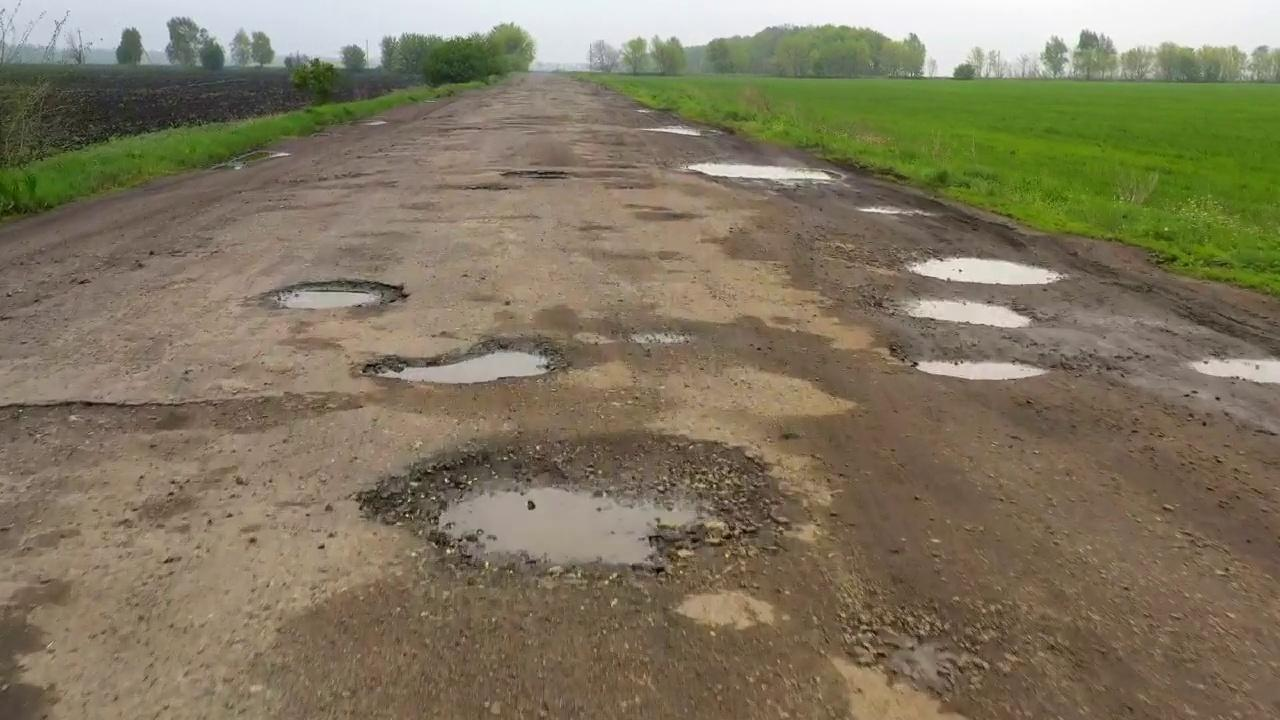bache: (357, 431, 781, 576), (0, 392, 358, 431), (361, 338, 566, 384), (260, 279, 407, 309), (909, 257, 1064, 284), (902, 299, 1031, 327), (913, 359, 1048, 379)
